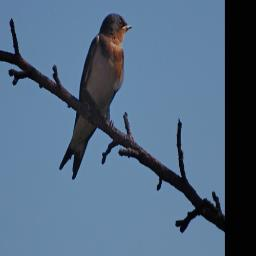Swallow: (59, 13, 132, 180)
